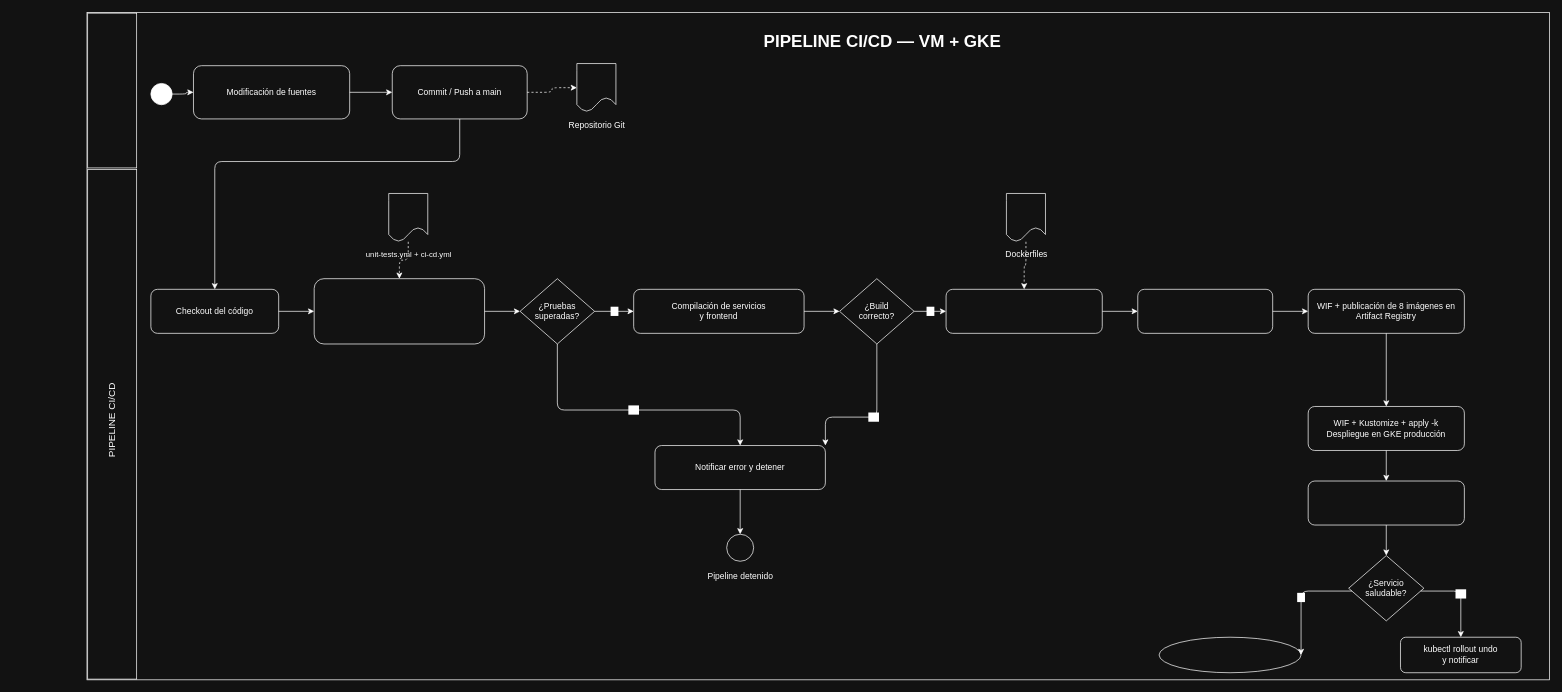
Some shapes in this 1562 by 692 pixel diagram are drawn without their labels. The centre of each missing label's shape, as x and y in pixels:
Aliases + commit-SHA inmutable: pixel 1205 311
Construcción de imágenes Docker: pixel 1023 311
Desarrollador: pixel 112 90
Ejecución automática de tests unitarios TypeScript / Go / Python: pixel 399 311
Producción GKE y VM staging actualizadas: pixel 1229 655
Rollouts + ManagedCertificate + smoke tests HTTPS: pixel 1385 502
